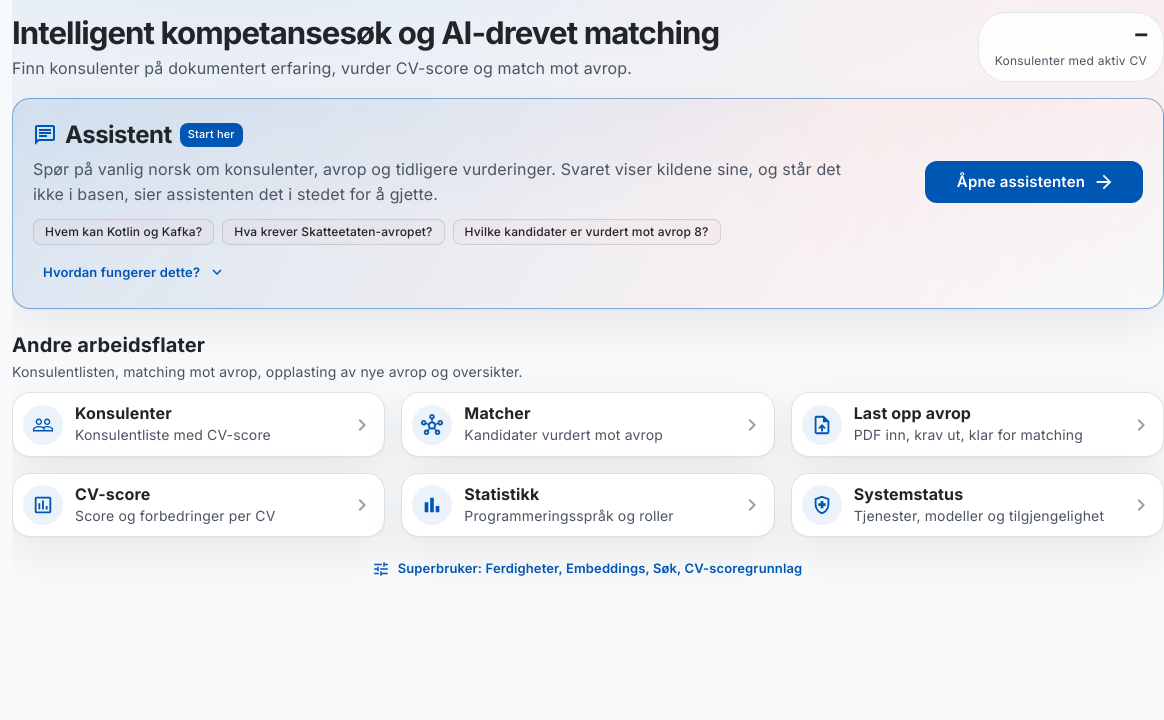
Test: HomePage › explains that the lookup happens before the model does
Click the button "Hvordan fungerer dette?" at (134, 272), box [25, 253, 242, 292]
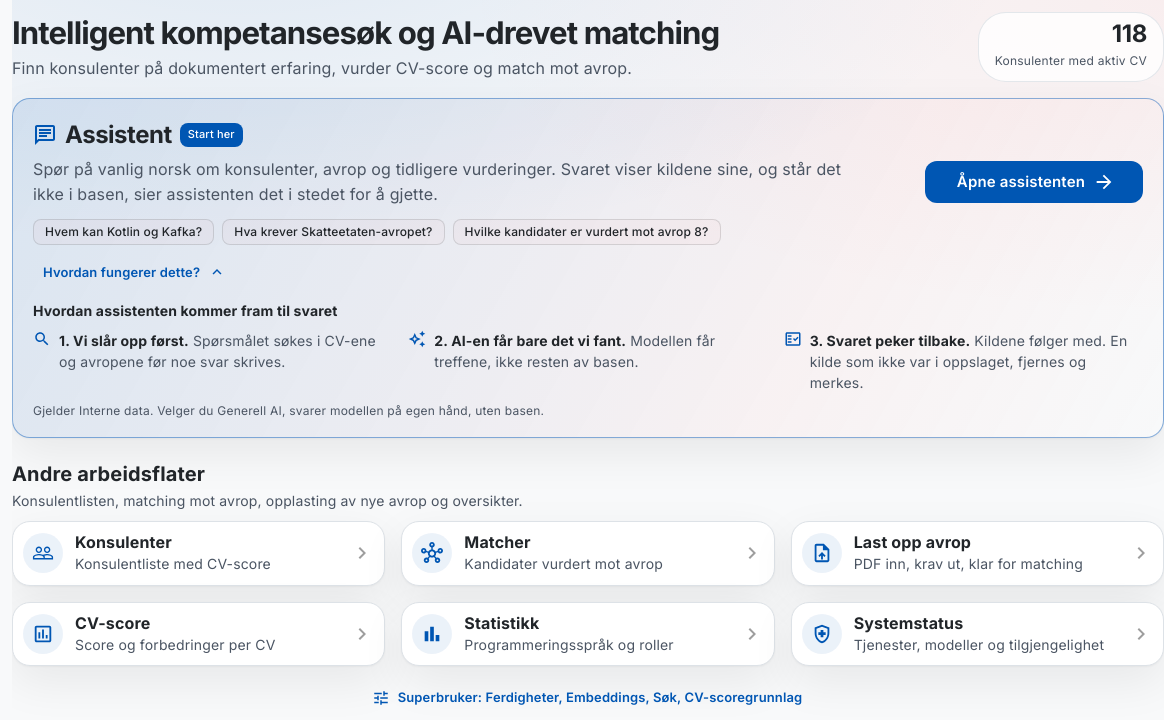
Now the text "1. Vi slår opp først." is shown, box [59, 332, 189, 349]
Now the text "2. AI-en får bare det vi fant." is shown, box [434, 332, 626, 349]
Now the text "3. Svaret peker tilbake." is shown, box [810, 332, 970, 349]
